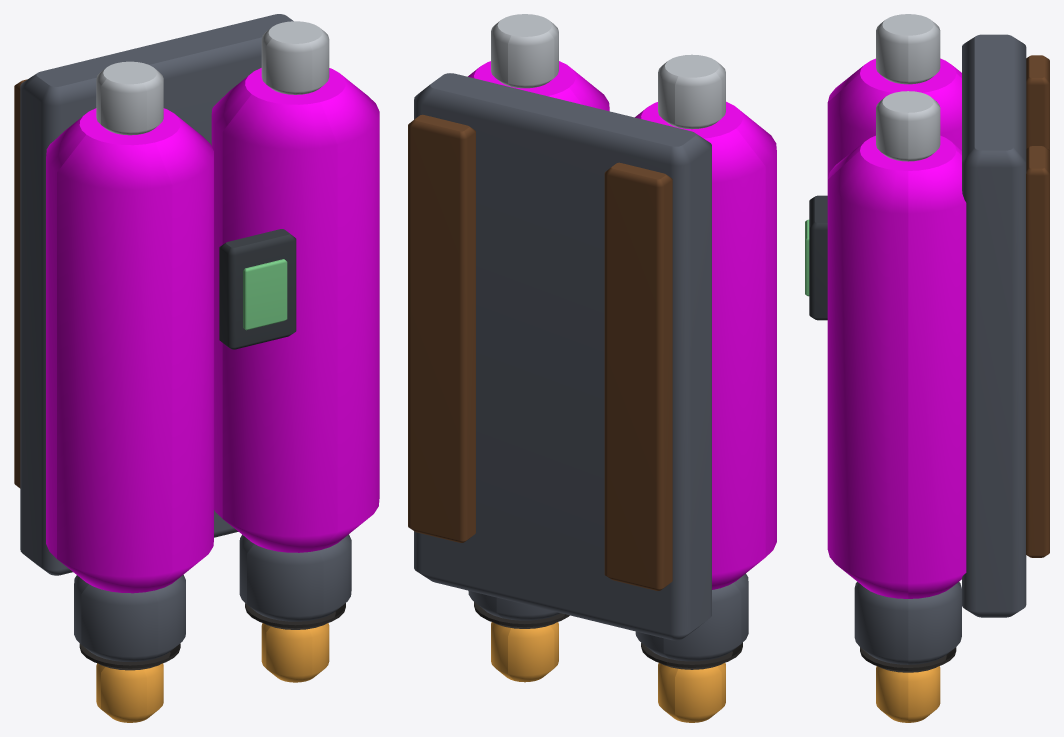
Rendered from objet_propulseur.glb.
The picture shows the model from 3 angles, left to right: view 1: azimuth 30°, elevation 25°; view 2: azimuth 150°, elevation 25°; view 3: azimuth 270°, elevation 25°; orthographic projection. The views are drawn at different scales.
Parts seen in each view (by area): view 1: jetpack_teinte.002, jetpack_exo_metal.002, jetpack_rivet.002, jetpack_flamme_jet.002, jetpack_teinte_sombre.002, jetpack_sac_cuir.002, jetpack_exo_vert.002, jetpack_semelle.002; view 2: jetpack_exo_metal.002, jetpack_sac_cuir.002, jetpack_teinte.002, jetpack_rivet.002, jetpack_flamme_jet.002, jetpack_semelle.002; view 3: jetpack_teinte.002, jetpack_exo_metal.002, jetpack_sac_cuir.002, jetpack_rivet.002, jetpack_flamme_jet.002, jetpack_teinte_sombre.002, jetpack_semelle.002.
Part boxes in pixels (x1,y1,x2,y2): jetpack_teinte.002: (46, 68, 379, 593); jetpack_exo_metal.002: (20, 14, 351, 661); jetpack_rivet.002: (96, 21, 329, 135); jetpack_flamme_jet.002: (96, 623, 329, 722); jetpack_teinte_sombre.002: (219, 229, 296, 349); jetpack_sac_cuir.002: (14, 79, 27, 488); jetpack_exo_vert.002: (243, 259, 287, 330); jetpack_semelle.002: (79, 603, 345, 670); jetpack_exo_metal.002: (414, 73, 748, 661); jetpack_sac_cuir.002: (408, 114, 672, 590); jetpack_teinte.002: (468, 61, 776, 589); jetpack_rivet.002: (491, 14, 725, 129); jetpack_flamme_jet.002: (491, 622, 725, 722); jetpack_semelle.002: (474, 602, 742, 669); jetpack_teinte.002: (827, 58, 966, 598); jetpack_exo_metal.002: (854, 34, 1026, 664); jetpack_sac_cuir.002: (1026, 55, 1049, 557); jetpack_rivet.002: (876, 14, 940, 161); jetpack_flamme_jet.002: (876, 666, 940, 722); jetpack_teinte_sombre.002: (809, 195, 827, 320); jetpack_semelle.002: (860, 647, 956, 672).
Bounding box in the file's own units: 0.16 × 0.315 × 0.114.
